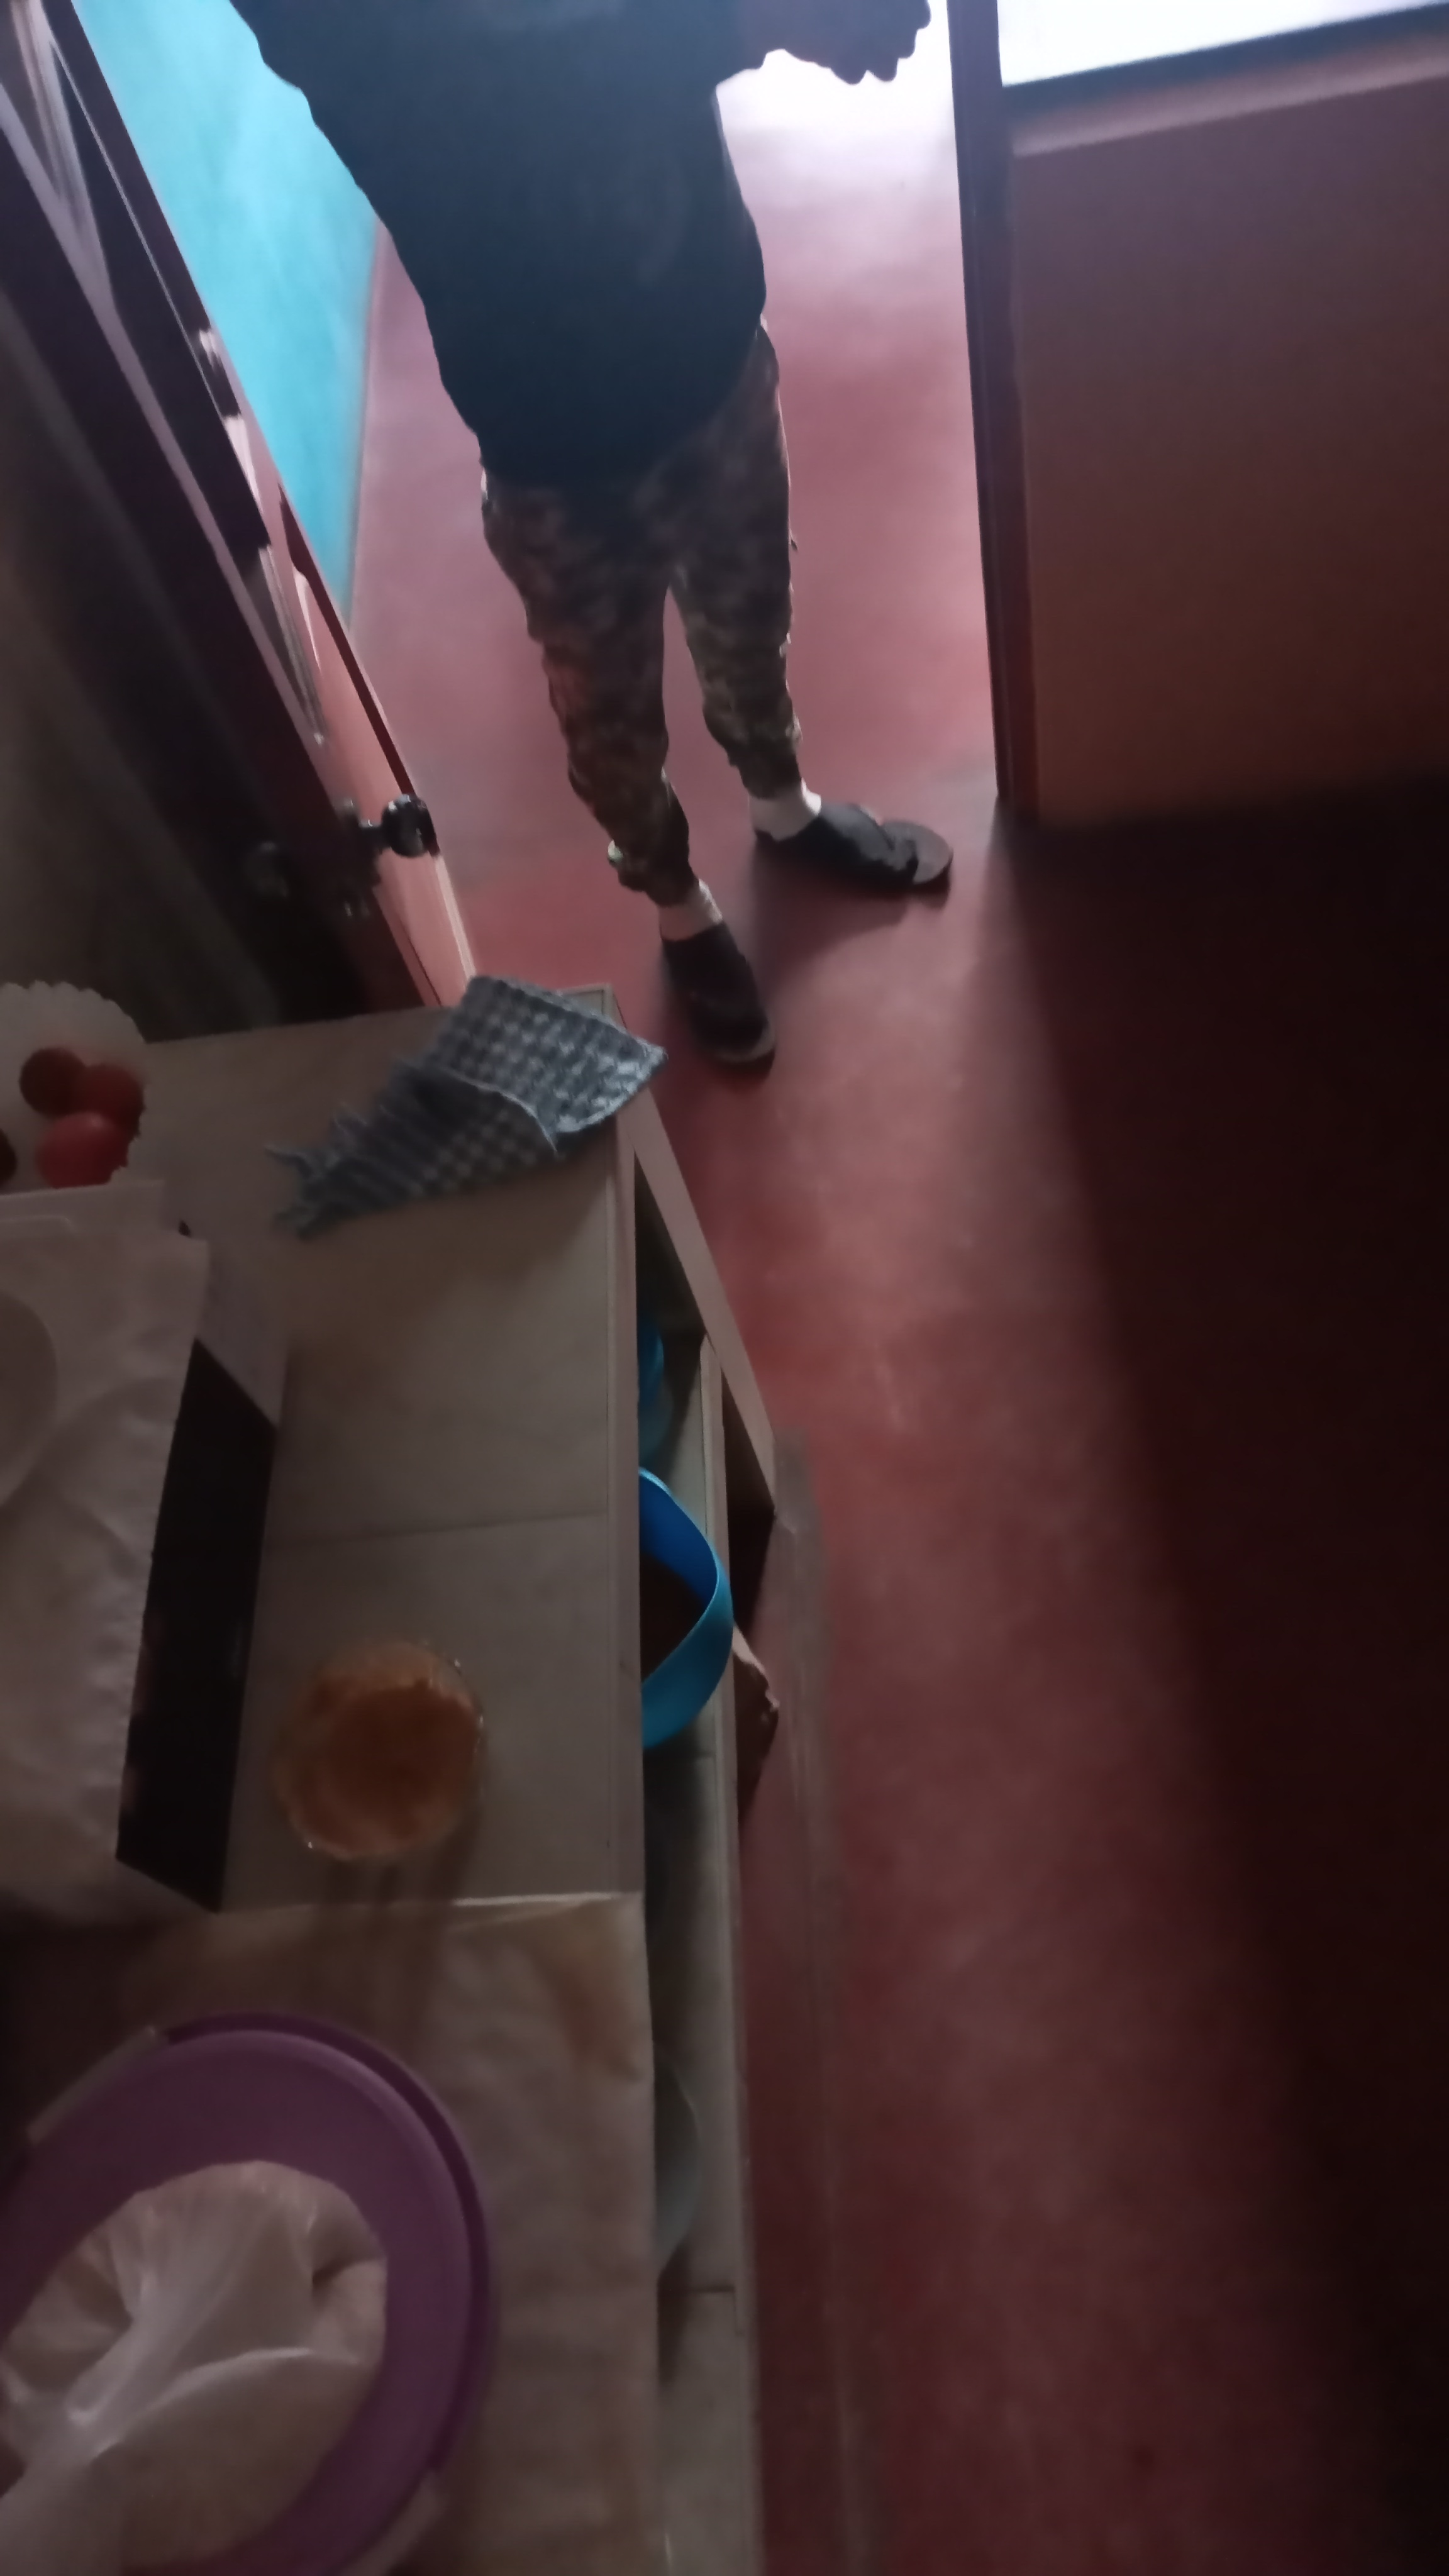pistol: (748, 0, 1000, 94)
